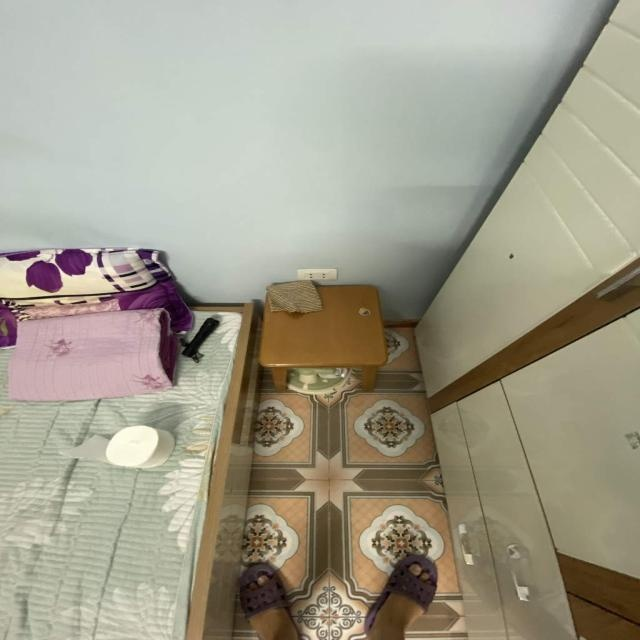outlet: (296, 268, 337, 280)
